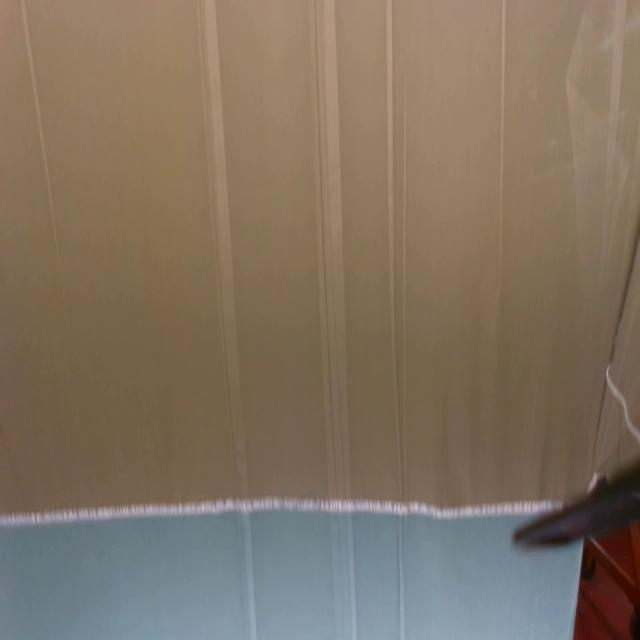crease: (197, 0, 258, 640), (310, 0, 358, 640), (18, 0, 63, 290), (384, 1, 399, 503), (400, 84, 409, 510), (496, 0, 508, 272), (396, 510, 406, 640)
